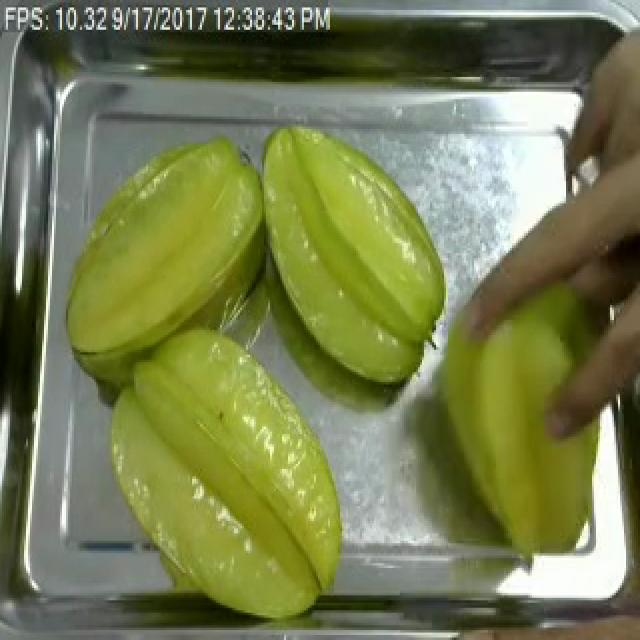fruit: (94, 313, 352, 635), (422, 216, 628, 570), (236, 112, 460, 404), (56, 126, 282, 374)
